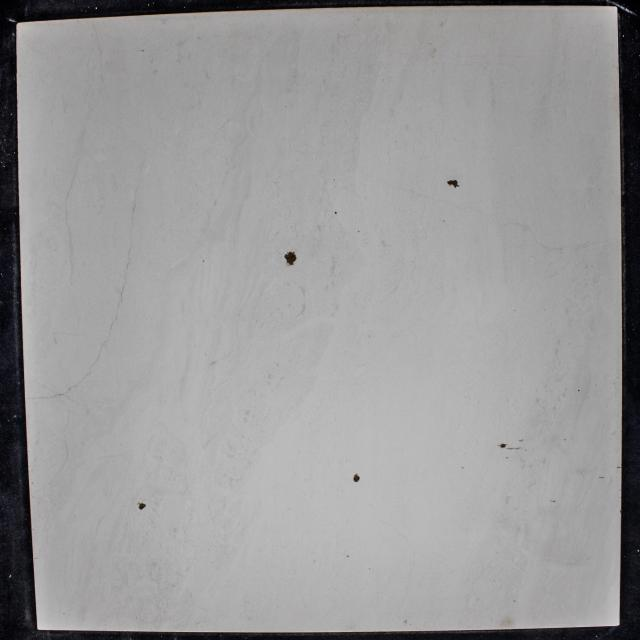hole: (284, 250, 297, 266), (446, 180, 460, 190), (353, 472, 361, 482), (138, 502, 146, 509), (500, 444, 506, 448), (334, 212, 338, 214), (358, 230, 360, 233)
